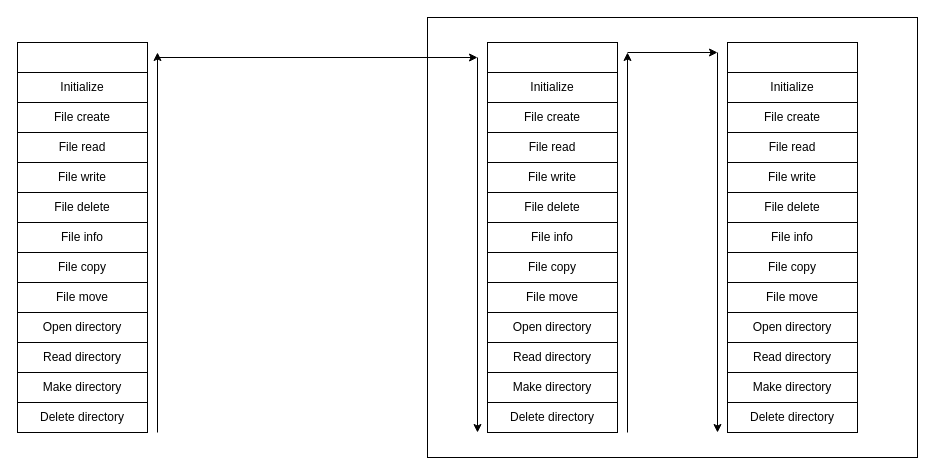
Some shapes in this 935 by 475 pixel diagram are drawn without their labels. The shapes that lost their labels are listed below. From the top down, each one's centre as x and y in pixels, then its label:
At point (82, 57): "Client".
At point (552, 57): "Naming Server".
At point (792, 57): "Storage Server".
